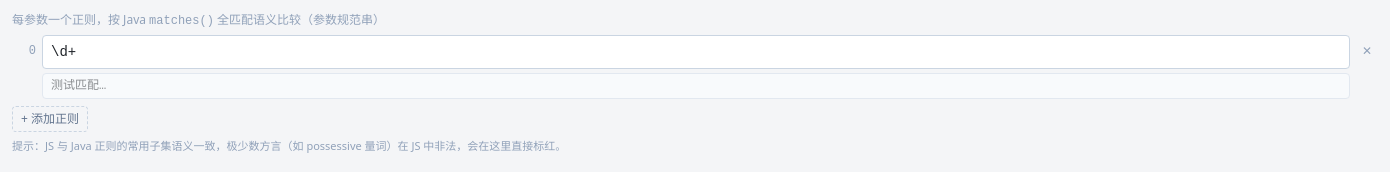
Test: PatternEditor › 测试匹配输入框：全匹配命中 / 不命中
This screenshot has width=1390, height=172.
Type "123" into the field with placeholder "测试匹配…" at (696, 86), box [42,73,1350,99]
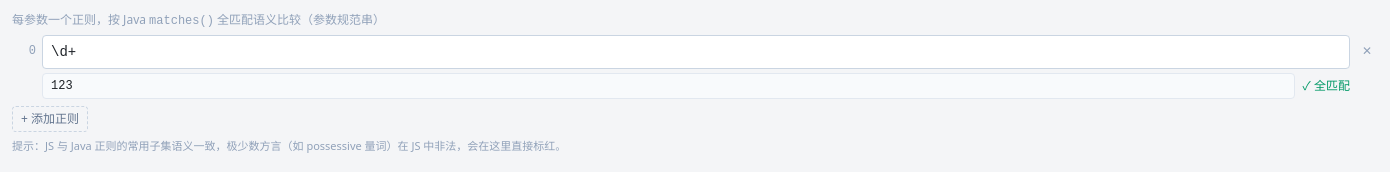
Now the text "✓ 全匹配" is shown, box [1303,78,1350,94]
Replace the text in the field with placeholder "测试匹配…" next to "✓ 全匹配" with "a123" at (668, 86), box [42,73,1295,99]
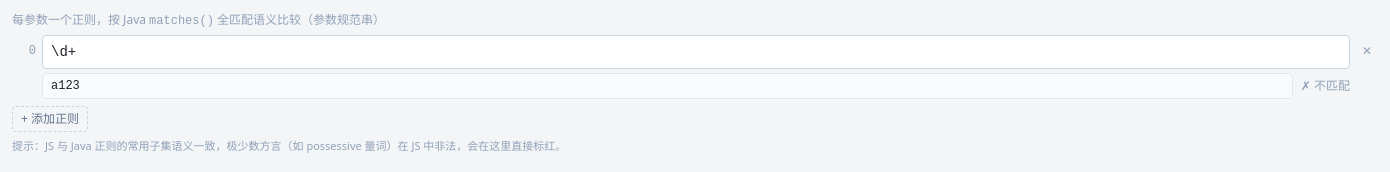
Now the text "✗ 不匹配" is shown, box [1301,78,1350,94]
